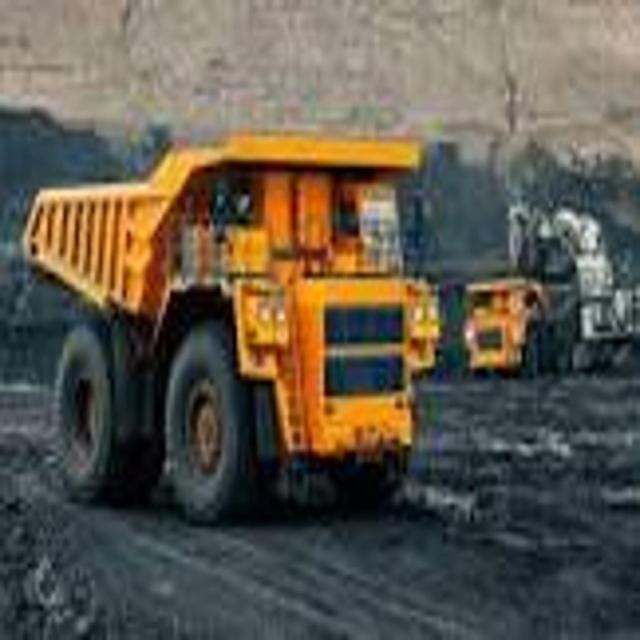dump_truck: (17, 132, 438, 548), (459, 263, 575, 380)
